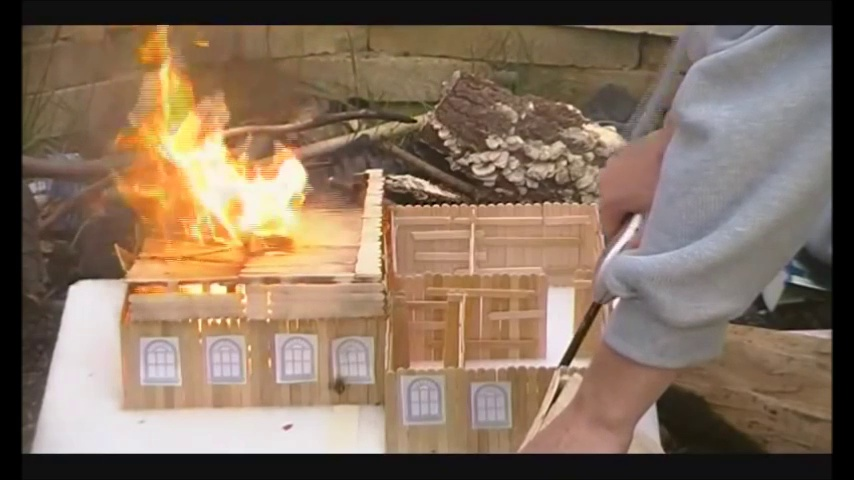fire: (119, 54, 305, 252)
